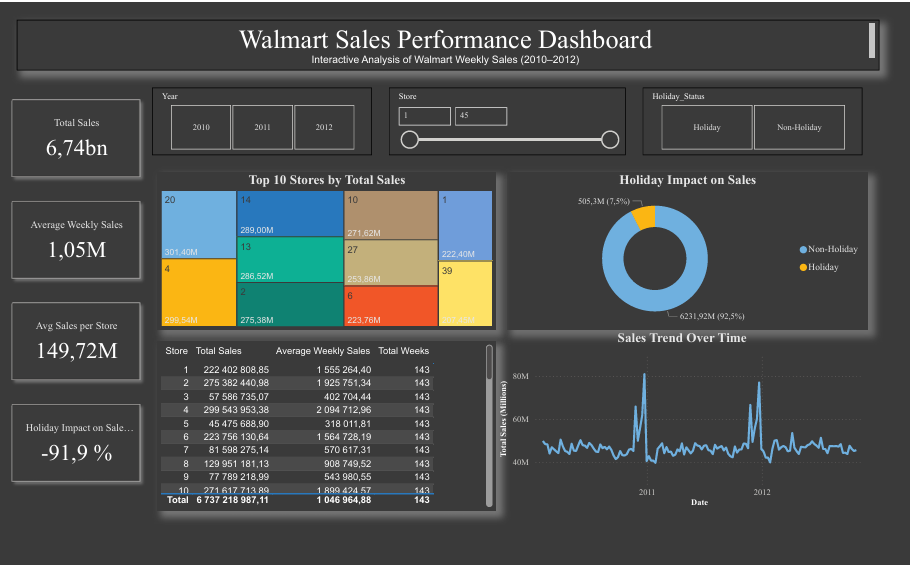

What the dashboard file says about the page in this screenshot:
{"tool":"powerbi","page":{"name":"Overview","canvas":[1280,720],"ordinal":0},"visuals":[{"type":"cardVisual","fields":{"Data":["Walmart_sales.Total Sales"]},"box":[0,120,216,144],"z":0},{"type":"cardVisual","fields":{"Data":["Walmart_sales.Average Weekly Sales"]},"box":[0,264,216,144],"z":1000},{"type":"cardVisual","fields":{"Data":["Walmart_sales.Avg Sales per Store"]},"box":[0,408,216,144],"z":2000},{"type":"cardVisual","fields":{"Data":["Walmart_sales.Holiday Lift %"]},"box":[0,552,216,144],"z":3000},{"type":"lineChart","title":"Sales Trend Over Time","fields":{"Y":["Walmart_sales.Total Sales"],"Category":["Walmart_sales.Date"]},"box":[704,464,528,256],"z":4000},{"type":"donutChart","title":"Holiday Impact on Sales","fields":{"Y":["Walmart_sales.Total Sales"],"Category":["Walmart_sales.Holiday_Status"]},"box":[720,240,512,224],"z":5000},{"type":"treemap","title":"Top 10 Stores by Total Sales","fields":{"Group":["Walmart_sales.Store"],"Values":["Walmart_sales.Total Sales"]},"box":[224,240,480,224],"z":6000},{"type":"slicer","fields":{"Values":["Calendar.Year"]},"box":[216,120,312,96],"z":7000},{"type":"slicer","fields":{"Values":["Walmart_sales.Store"]},"box":[552,120,336,96],"z":8000},{"type":"slicer","fields":{"Values":["Walmart_sales.Holiday_Status"]},"box":[912,120,312,96],"z":9000},{"type":"textbox","box":[24,24,1224,72],"z":10000},{"type":"tableEx","fields":{"Values":["Walmart_sales.Store","Walmart_sales.Total Sales","Walmart_sales.Average Weekly Sales","Walmart_sales.Total Weeks"]},"box":[224,480,480,240],"z":10001}]}

Visuals, with their boxes in screenshot pixels (x1, y1, x2, y2):
cardVisual - Walmart_sales.Total Sales: detection(0, 71, 136, 175)
cardVisual - Walmart_sales.Average Weekly Sales: detection(0, 175, 136, 280)
cardVisual - Walmart_sales.Avg Sales per Store: detection(0, 280, 136, 385)
cardVisual - Walmart_sales.Holiday Lift %: detection(0, 385, 136, 489)
"Sales Trend Over Time" lineChart: detection(490, 321, 874, 507)
"Holiday Impact on Sales" donutChart: detection(502, 158, 874, 321)
"Top 10 Stores by Total Sales" treemap: detection(141, 158, 490, 321)
slicer - Calendar.Year: detection(136, 71, 362, 140)
slicer - Walmart_sales.Store: detection(380, 71, 624, 140)
slicer - Walmart_sales.Holiday_Status: detection(642, 71, 868, 140)
textbox: detection(0, 1, 886, 53)
tableEx - Walmart_sales.Store x Walmart_sales.Total Sales: detection(141, 332, 490, 507)
